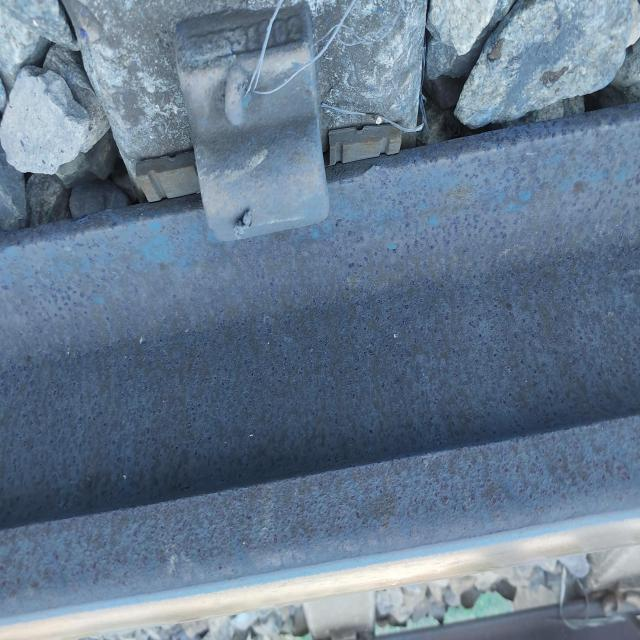Missing Fastener: (151, 1, 342, 241)
